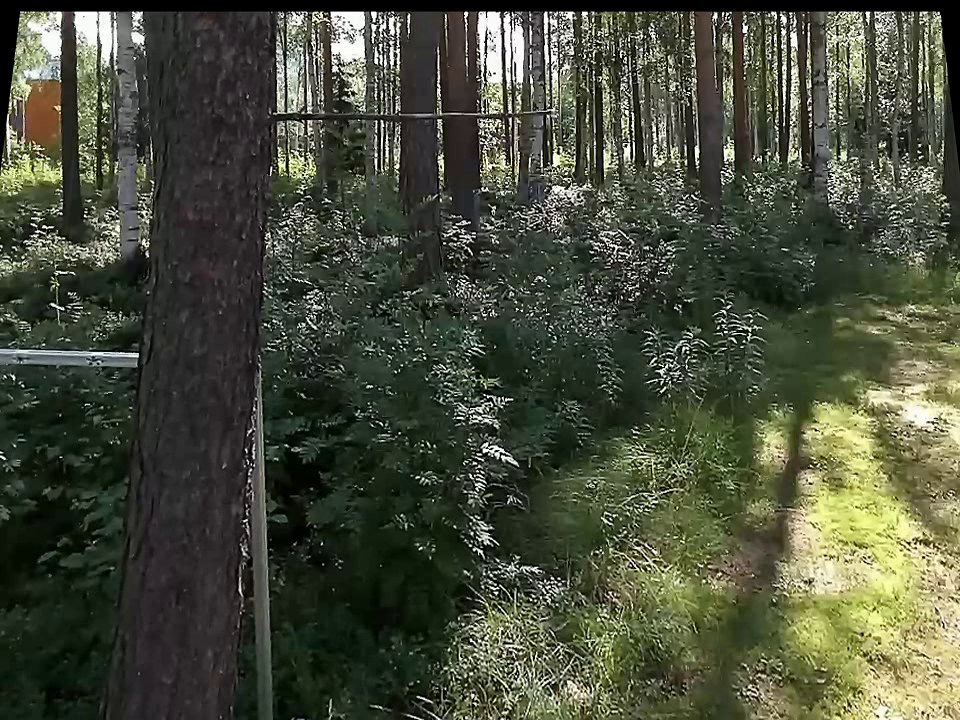aluminum_frame: (247, 360, 277, 714), (0, 344, 141, 374)
branch: (277, 101, 536, 127)
